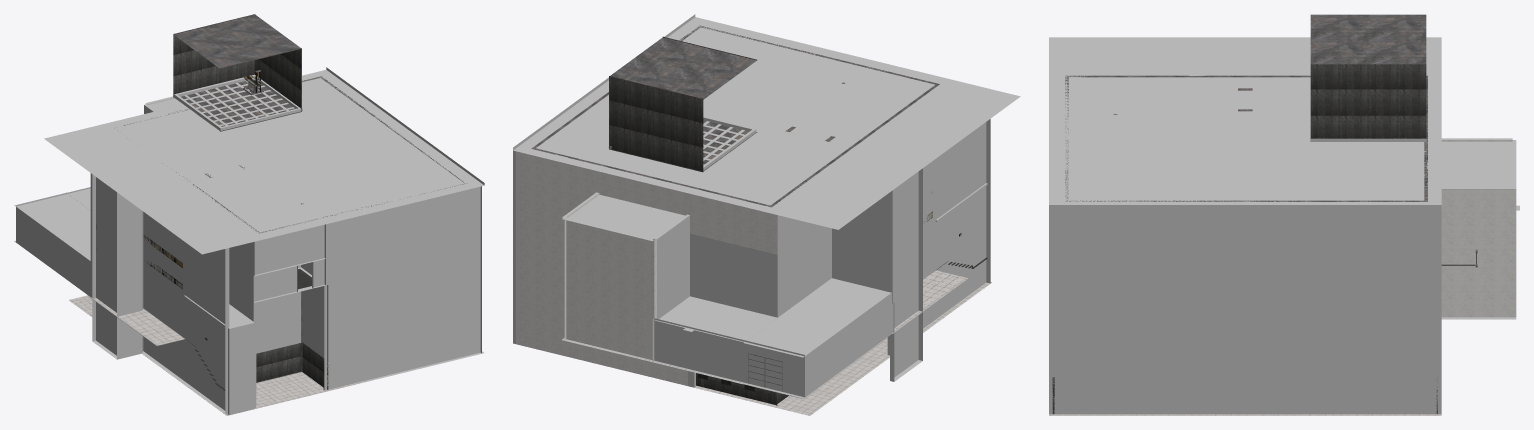
The picture shows the model from 3 angles, left to right: view 1: azimuth 30°, elevation 25°; view 2: azimuth 150°, elevation 25°; view 3: azimuth 270°, elevation 25°; orthographic projection. The views are drawn at different scales.
Parts seen in each view (by area): view 1: classname=brush; view 2: classname=brush; view 3: classname=brush.
Part boxes in pixels (<box>): classname=brush: <box>14,14,484,415</box>; classname=brush: <box>513,14,1020,415</box>; classname=brush: <box>1049,14,1519,415</box>.
Size of the model in its own units: 356000 by 298400 by 414400.
